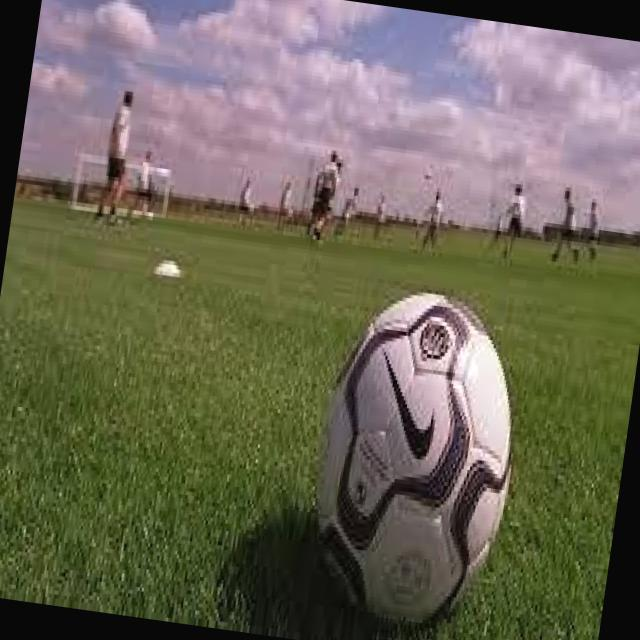Soccer Ball: (300, 289, 530, 632)
